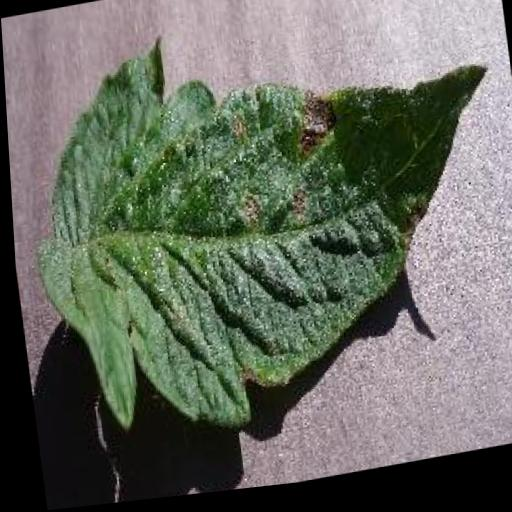Early Blight: (15, 2, 512, 458)
